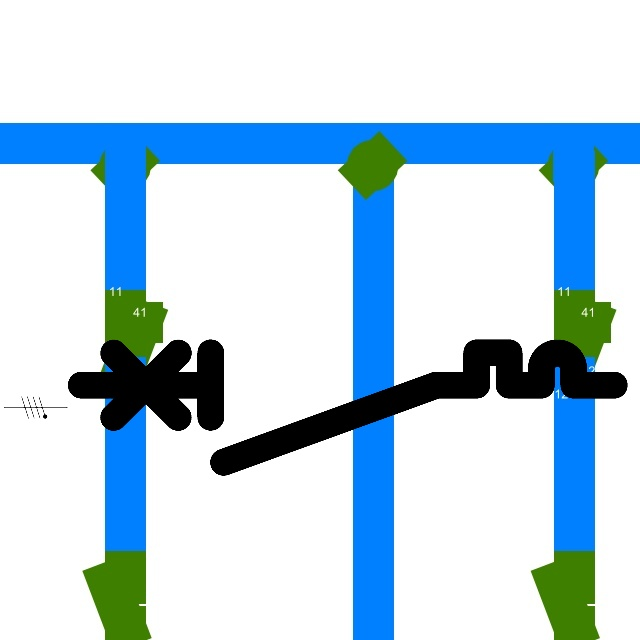interruptor_termomagnetico: (67, 339, 628, 476)
